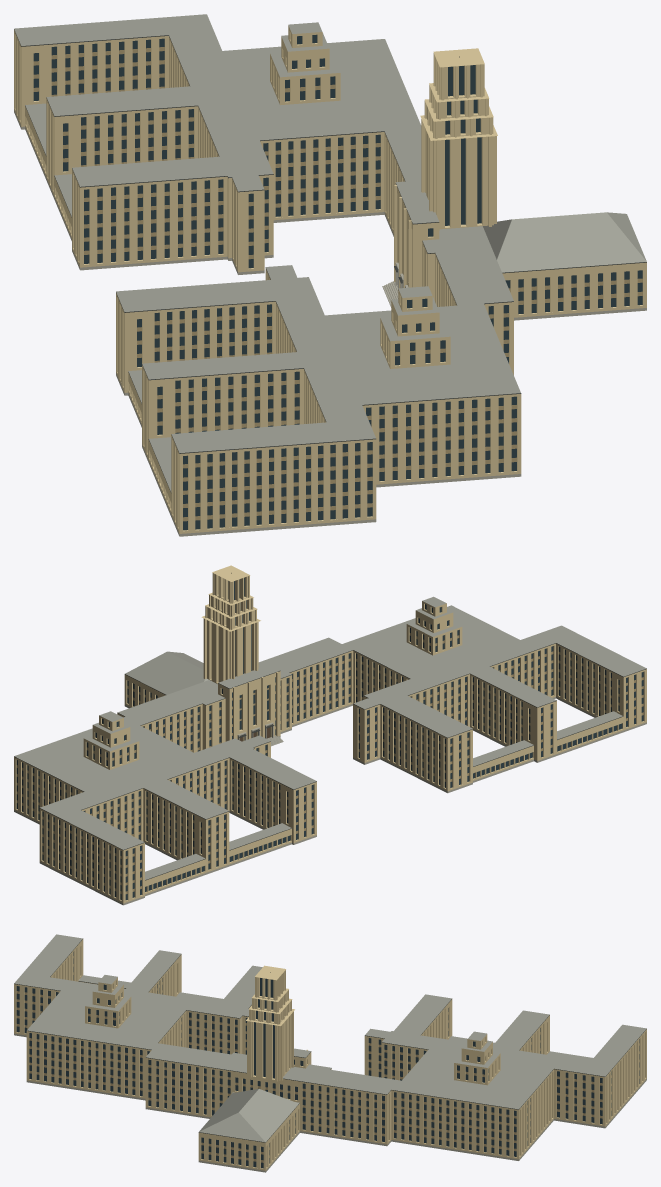
The model's file is pavillon-roger-gaudry-near.glb.
The picture shows the model from 3 angles, top to bottom: view 1: azimuth 30°, elevation 25°; view 2: azimuth 150°, elevation 25°; view 3: azimuth 270°, elevation 25°; orthographic projection. The views are drawn at different scales.
Visible parts, largest first — view 1: pavillon-roger-gaudry-0-brick, pavillon-roger-gaudry-0-roof, pavillon-roger-gaudry-0-glass, pavillon-roger-gaudry-0-spandrel, pavillon-roger-gaudry-0-stone, pavillon-roger-gaudry-0-metal; view 2: pavillon-roger-gaudry-0-brick, pavillon-roger-gaudry-0-roof, pavillon-roger-gaudry-0-glass, pavillon-roger-gaudry-0-spandrel, pavillon-roger-gaudry-0-stone, pavillon-roger-gaudry-0-metal; view 3: pavillon-roger-gaudry-0-brick, pavillon-roger-gaudry-0-roof, pavillon-roger-gaudry-0-glass, pavillon-roger-gaudry-0-spandrel, pavillon-roger-gaudry-0-stone, pavillon-roger-gaudry-0-metal.
Part boxes in pixels (x1,y1,x2,y2): pavillon-roger-gaudry-0-brick: (14, 25, 646, 533); pavillon-roger-gaudry-0-roof: (14, 14, 646, 492); pavillon-roger-gaudry-0-glass: (33, 34, 642, 530); pavillon-roger-gaudry-0-spandrel: (33, 47, 642, 521); pavillon-roger-gaudry-0-stone: (14, 110, 646, 536); pavillon-roger-gaudry-0-metal: (14, 29, 646, 491); pavillon-roger-gaudry-0-brick: (14, 565, 646, 903); pavillon-roger-gaudry-0-roof: (14, 596, 646, 879); pavillon-roger-gaudry-0-glass: (16, 577, 643, 900); pavillon-roger-gaudry-0-spandrel: (16, 633, 643, 894); pavillon-roger-gaudry-0-stone: (14, 696, 646, 905); pavillon-roger-gaudry-0-metal: (14, 573, 646, 880); pavillon-roger-gaudry-0-brick: (14, 939, 646, 1170); pavillon-roger-gaudry-0-roof: (14, 934, 646, 1142); pavillon-roger-gaudry-0-glass: (16, 952, 639, 1168); pavillon-roger-gaudry-0-spandrel: (16, 956, 639, 1162); pavillon-roger-gaudry-0-stone: (14, 1033, 646, 1172); pavillon-roger-gaudry-0-metal: (14, 939, 646, 1142).
Bounding box in the file's own units: 185 × 70 × 266.
